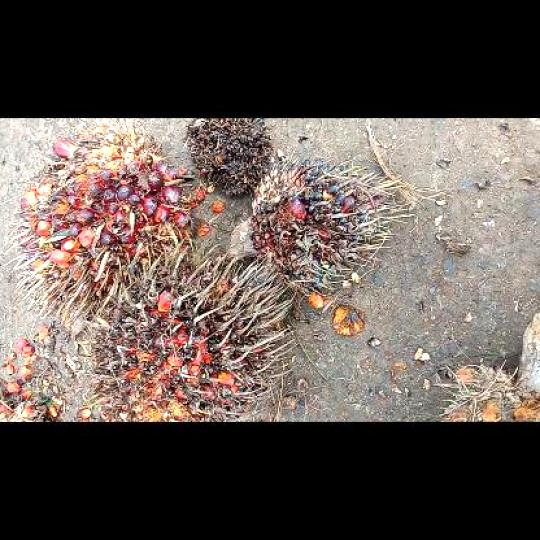masak: (12, 123, 200, 326)
terlalu masak: (89, 250, 300, 420)
